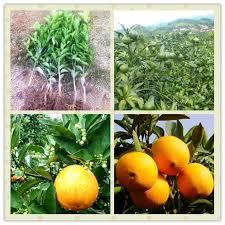orange: (117, 134, 222, 205), (55, 160, 95, 207), (178, 163, 224, 200), (153, 140, 192, 180), (112, 158, 153, 192)
